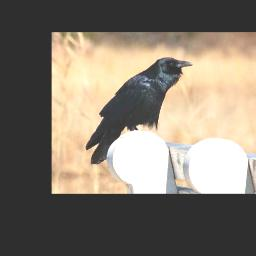Crow: (85, 57, 193, 166)
